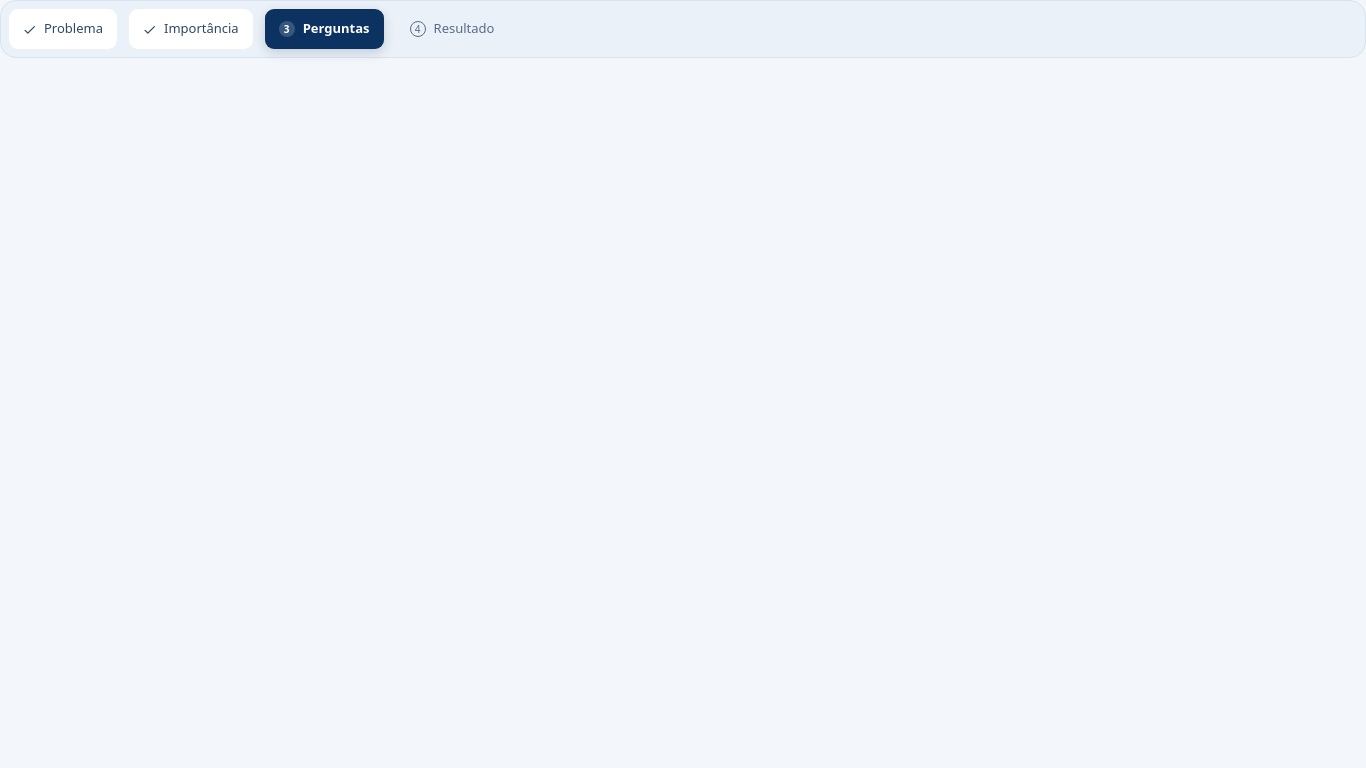
Test: barra de etapas › avisa antes de reordenar quando ha respostas a perder
The width and height of the screenshot is (1366, 768).
Click the button "Importância" at (191, 29), box [129,9,253,49]
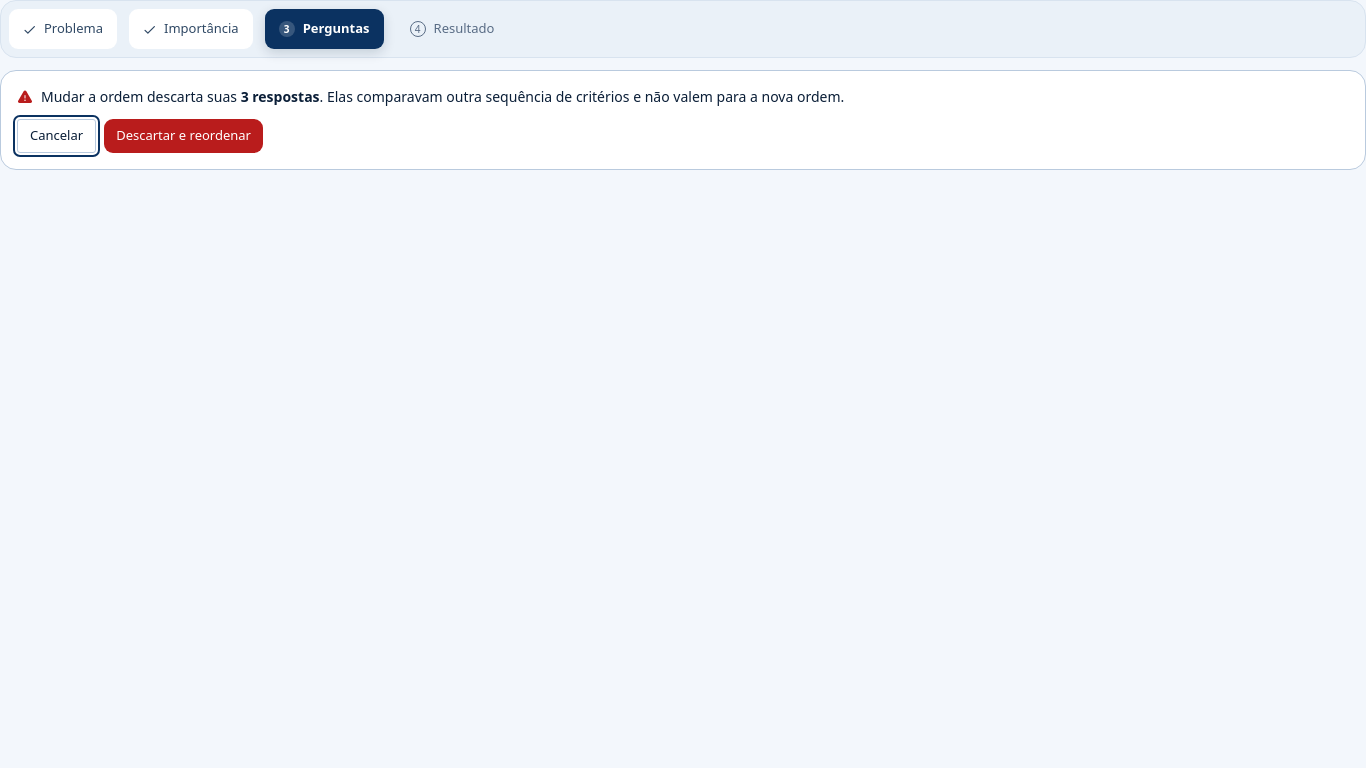
Now the dialog is shown, box [0,70,1365,170]
Now the text "3 respostas" is shown, box [241,87,320,106]
